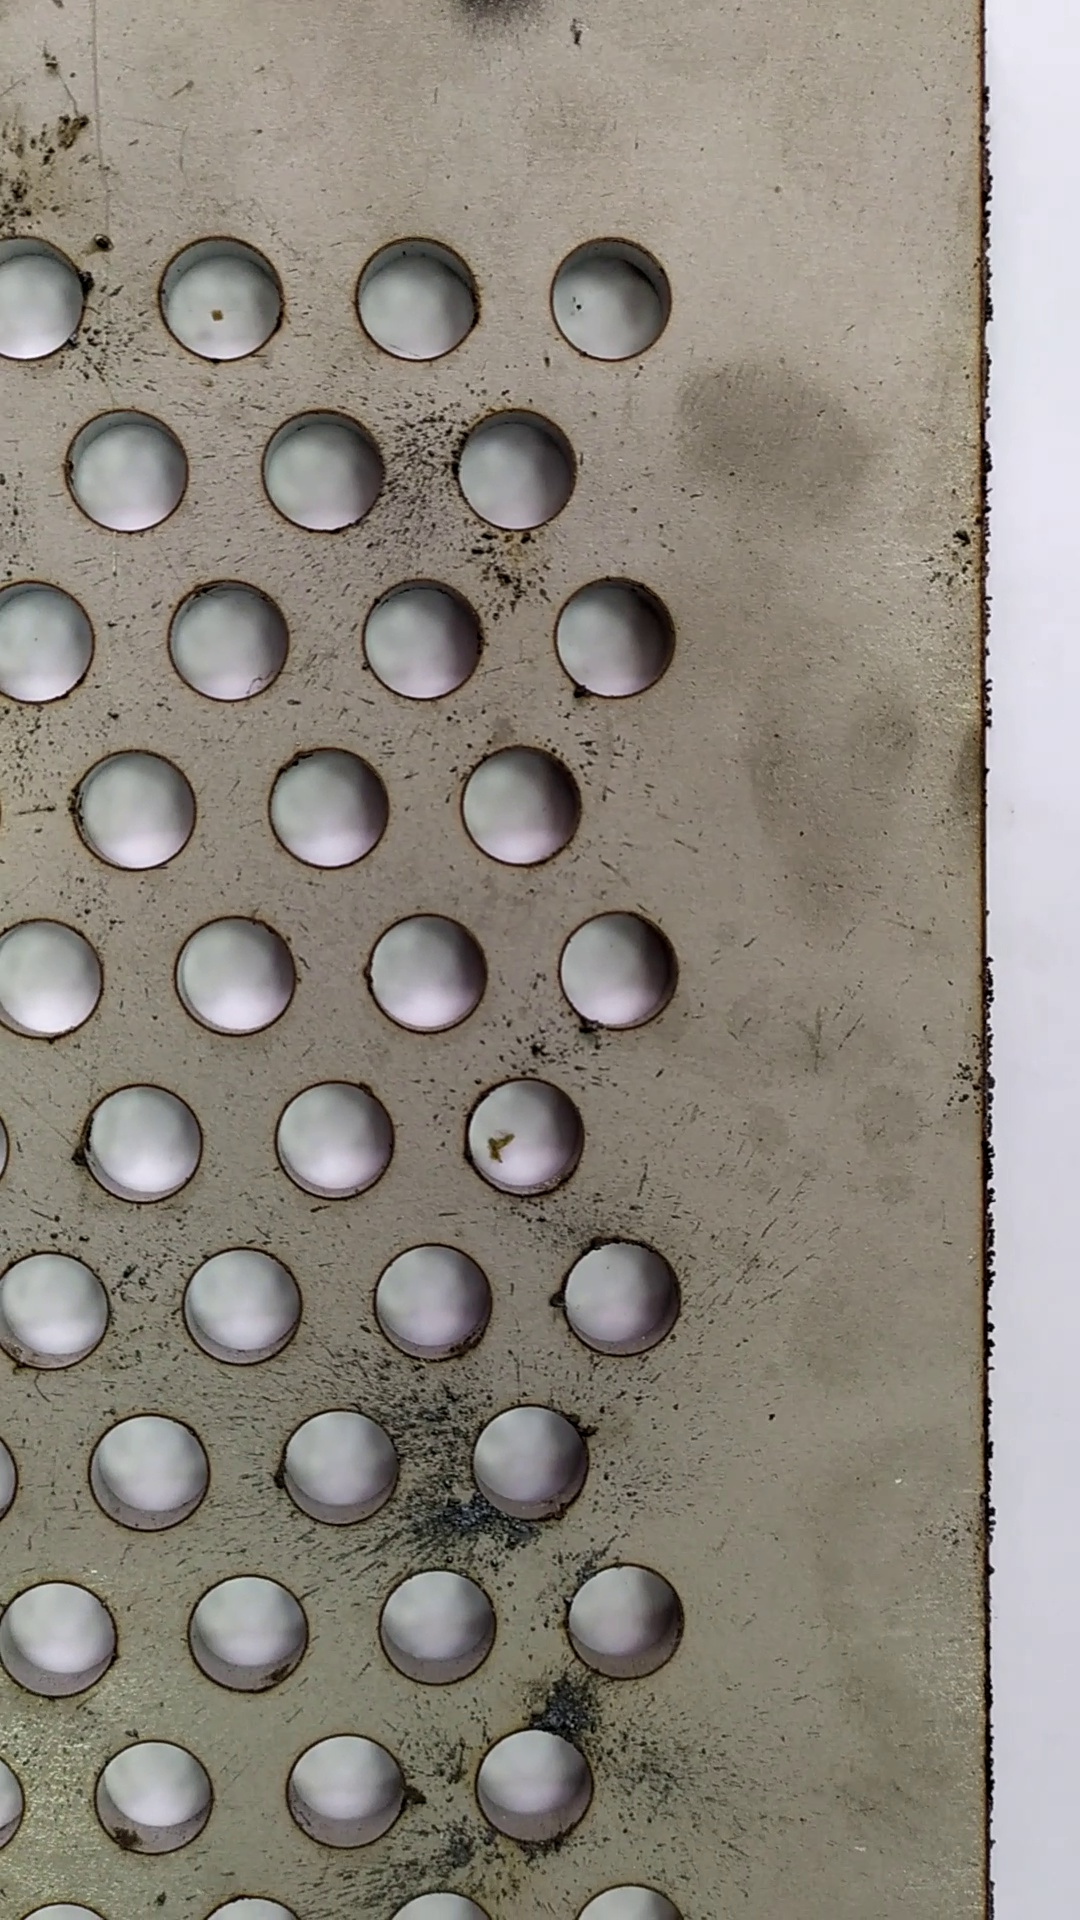Hole: (332, 225, 498, 375), (142, 218, 298, 371), (345, 571, 506, 717), (149, 566, 305, 711), (448, 1065, 603, 1207), (545, 1226, 694, 1367), (75, 1731, 228, 1869), (261, 1073, 410, 1213), (440, 400, 591, 538), (349, 903, 500, 1042), (79, 1403, 229, 1540), (63, 736, 206, 880), (543, 568, 688, 709), (471, 1716, 611, 1862), (262, 1396, 411, 1534), (538, 229, 679, 373), (545, 899, 688, 1040), (249, 400, 392, 541), (257, 738, 404, 876), (73, 1073, 214, 1213), (173, 1567, 322, 1698), (53, 397, 194, 535), (448, 738, 596, 870), (173, 1240, 320, 1371), (359, 1236, 506, 1367), (160, 911, 310, 1040), (549, 1552, 692, 1687), (454, 1396, 603, 1526), (371, 1556, 504, 1693), (273, 1730, 422, 1850)
